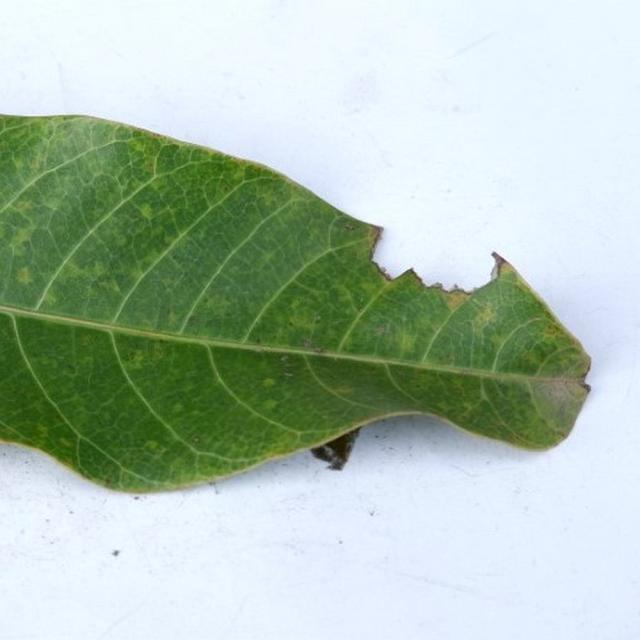Mango: (0, 116, 589, 492)
Powdery_Mildew: (414, 294, 494, 368), (198, 176, 298, 225), (525, 371, 586, 434), (75, 435, 130, 480), (281, 299, 332, 339), (153, 143, 204, 177), (66, 466, 138, 489), (326, 214, 364, 250), (181, 312, 246, 333), (98, 141, 137, 175), (386, 267, 427, 293), (364, 223, 386, 268), (321, 309, 361, 332), (439, 287, 475, 312), (7, 224, 36, 252), (473, 301, 500, 327), (555, 373, 584, 397), (488, 251, 510, 281), (394, 330, 419, 354), (276, 352, 295, 378), (133, 202, 156, 223), (576, 356, 592, 386), (124, 350, 147, 368), (96, 278, 120, 295), (13, 262, 29, 285), (11, 199, 34, 215), (288, 297, 308, 315), (15, 265, 32, 285), (165, 310, 184, 327), (447, 283, 470, 297), (130, 138, 149, 154), (259, 374, 279, 389), (258, 251, 276, 266), (145, 128, 169, 139), (150, 343, 165, 360), (43, 198, 62, 211), (426, 281, 448, 292), (261, 399, 280, 411), (378, 266, 393, 280), (545, 323, 560, 336), (93, 261, 105, 275), (79, 334, 92, 346), (374, 324, 387, 336), (36, 424, 49, 435), (145, 440, 159, 450), (59, 437, 72, 447), (172, 402, 184, 412), (168, 234, 180, 244), (344, 224, 355, 231), (66, 364, 75, 372), (280, 355, 288, 363), (193, 436, 200, 443), (357, 307, 364, 314), (452, 283, 459, 290), (158, 338, 166, 344), (288, 320, 294, 327), (255, 337, 261, 343)
